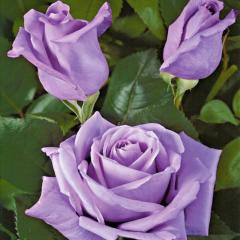Rose: (22, 113, 223, 240), (3, 0, 115, 115), (155, 1, 239, 108)
